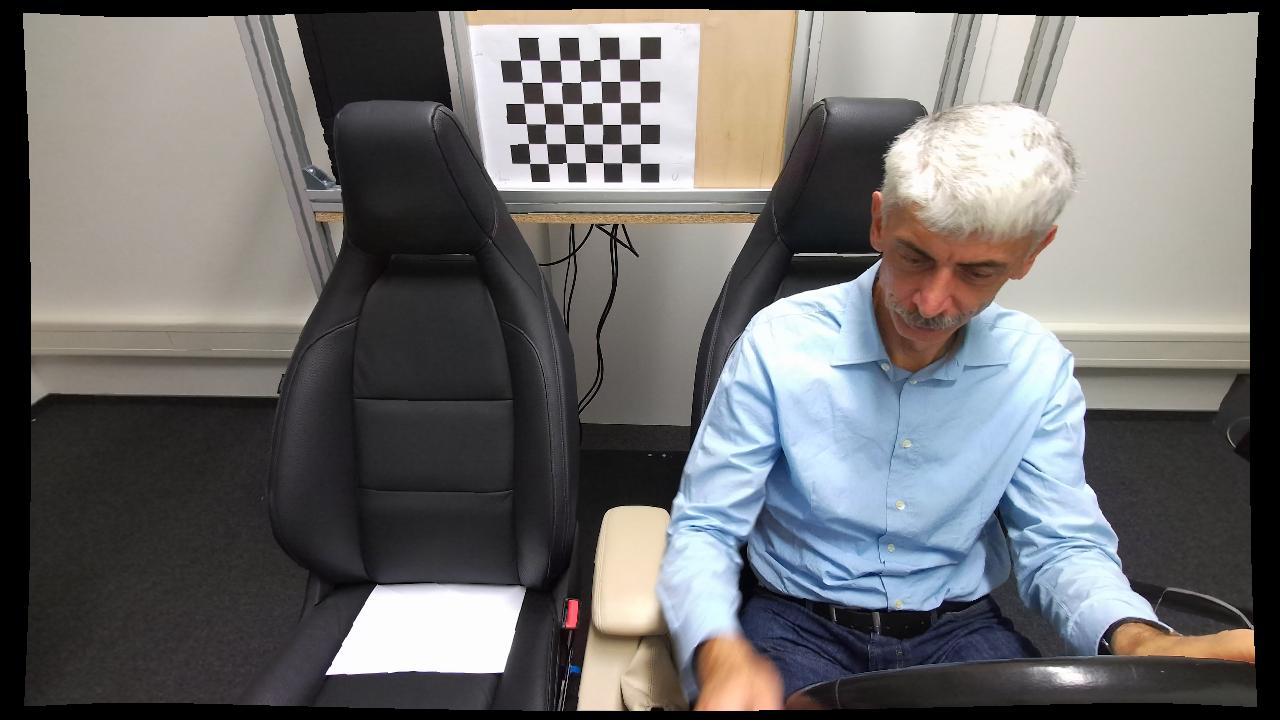Distracted: (653, 88, 1140, 706)
